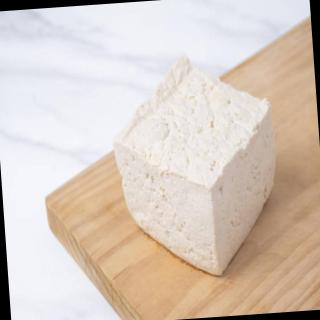Tahu: (107, 43, 293, 297)
